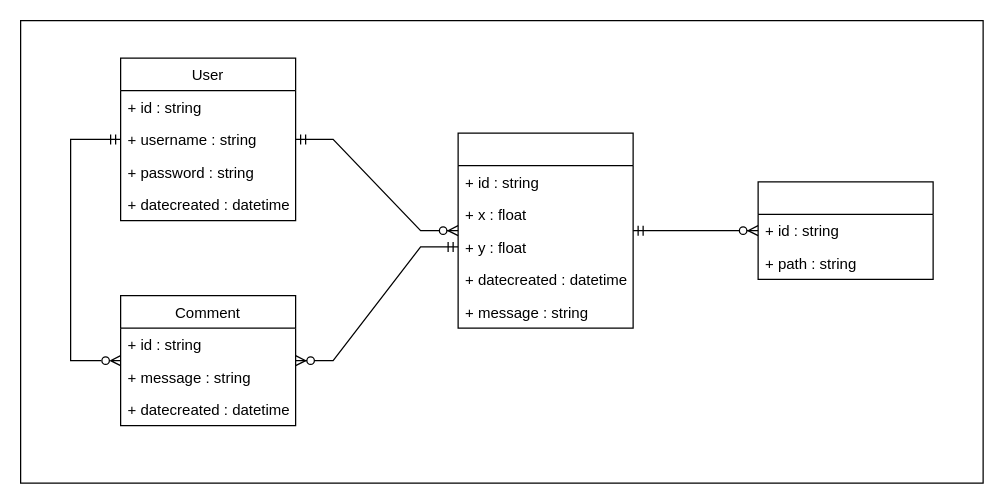
The diagram is 1004 pixels wide and 504 high, and some of its shapes have lost their labels. Here are the shapes that lost their labels. From the top down, the box of each, then its label:
(457, 132, 633, 328): Pin
(757, 181, 933, 279): Image
